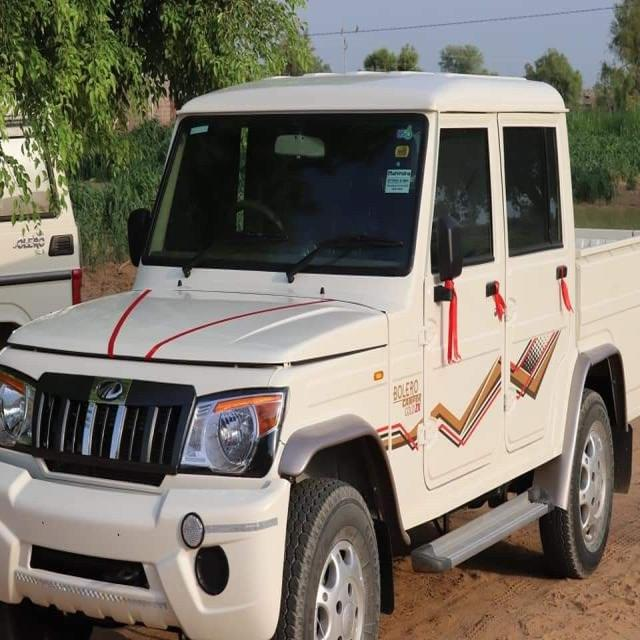light_vehicle: (7, 70, 640, 640)
